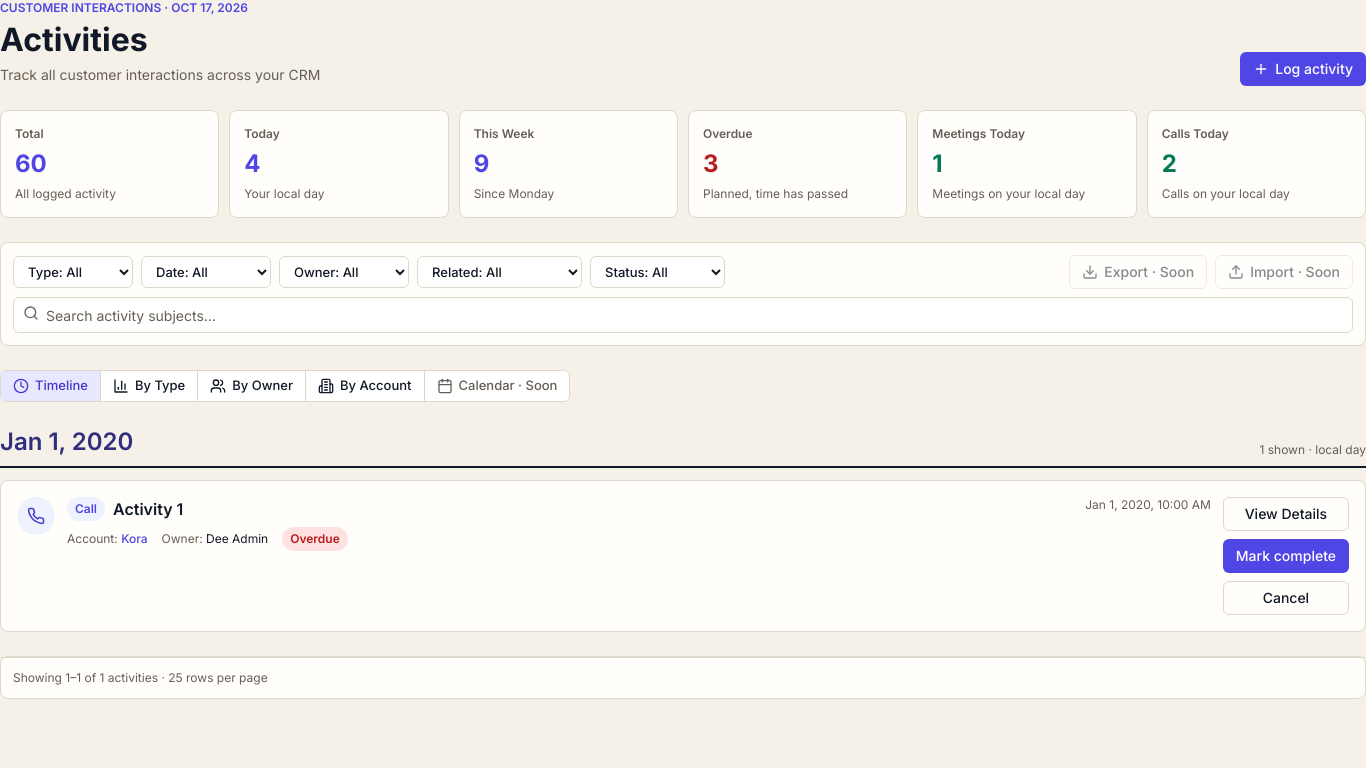
Scenario: Activities — server page, server counts, real filters › Mark complete is a real save, reported only after the 2xx, then reloads
The width and height of the screenshot is (1366, 768).
Check: the text "Overdue" next to "Dee Admin" is shown, box 290,531 -> 340,546
Click the button "Mark complete". click: (1286, 556)
box: 1223,539 -> 1349,573
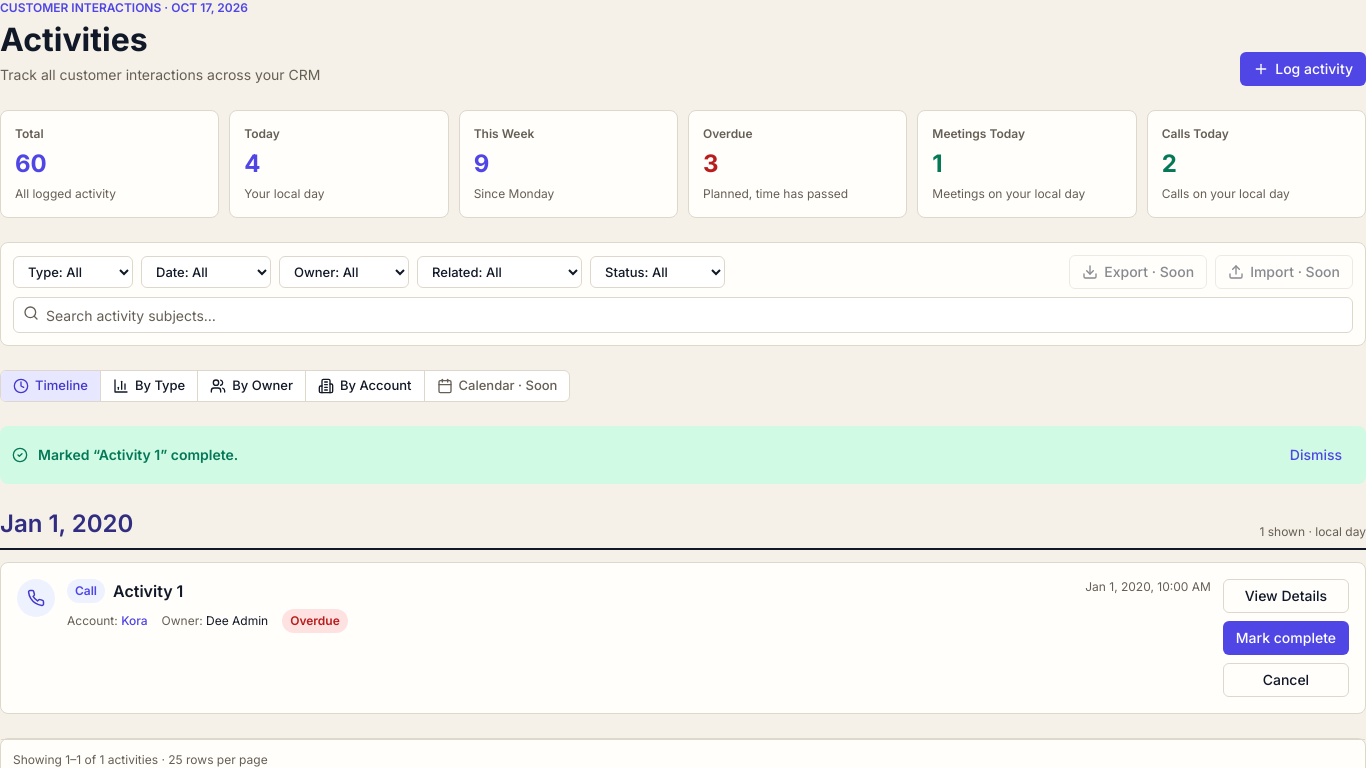
Check: the text "Marked “Activity 1” complete." is shown, box 38,446 -> 238,463
